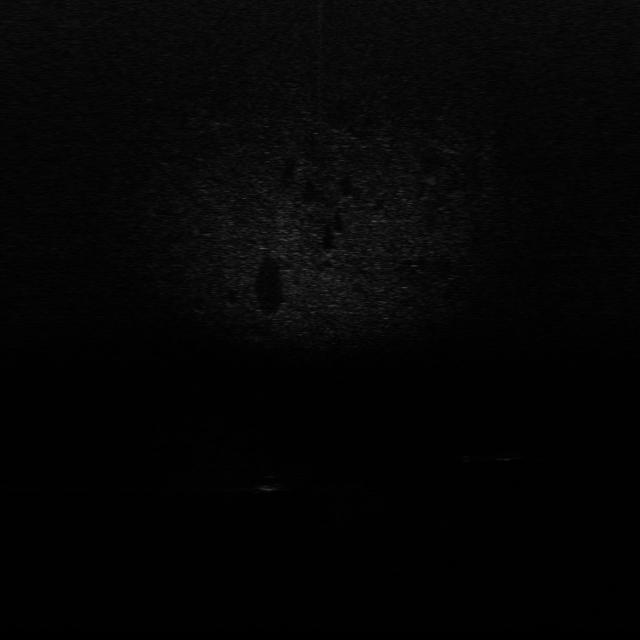ball: (248, 469, 288, 497)
human body: (457, 446, 537, 464)
